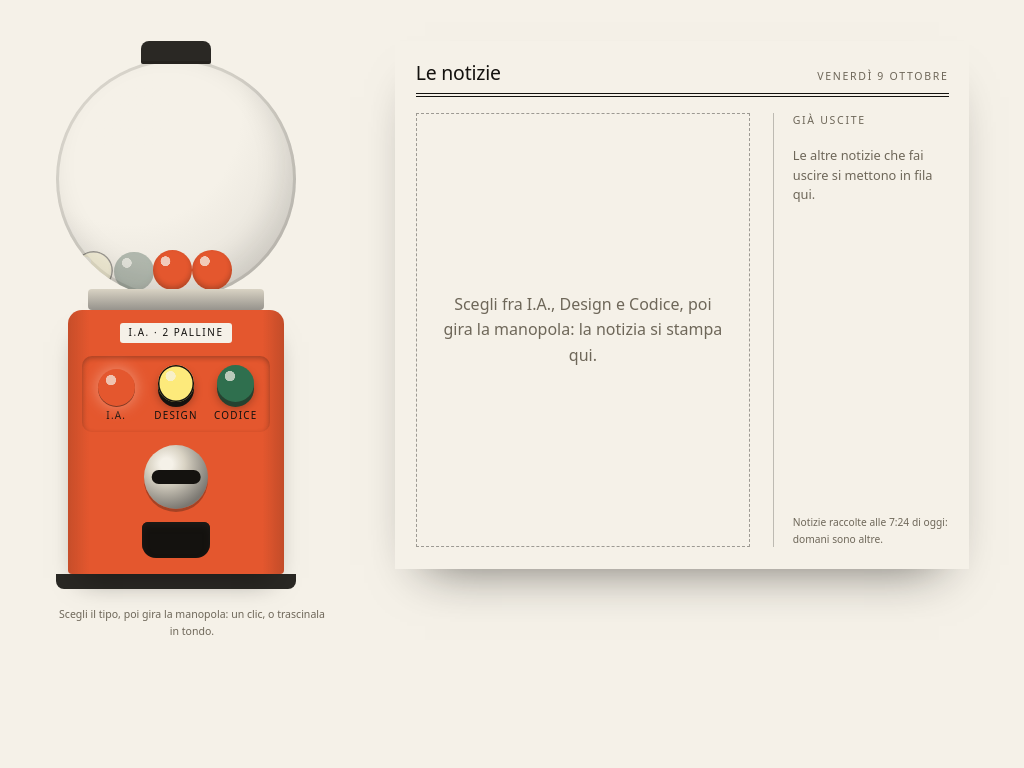
Scenario: le notizie: il giro › un tocco al centro della manopola gira, anche se il dito trema di due pixel
(page scrolled)
Click the button named "Gira la manopola: esce una notizia" at (176, 477), box [144, 445, 208, 509]
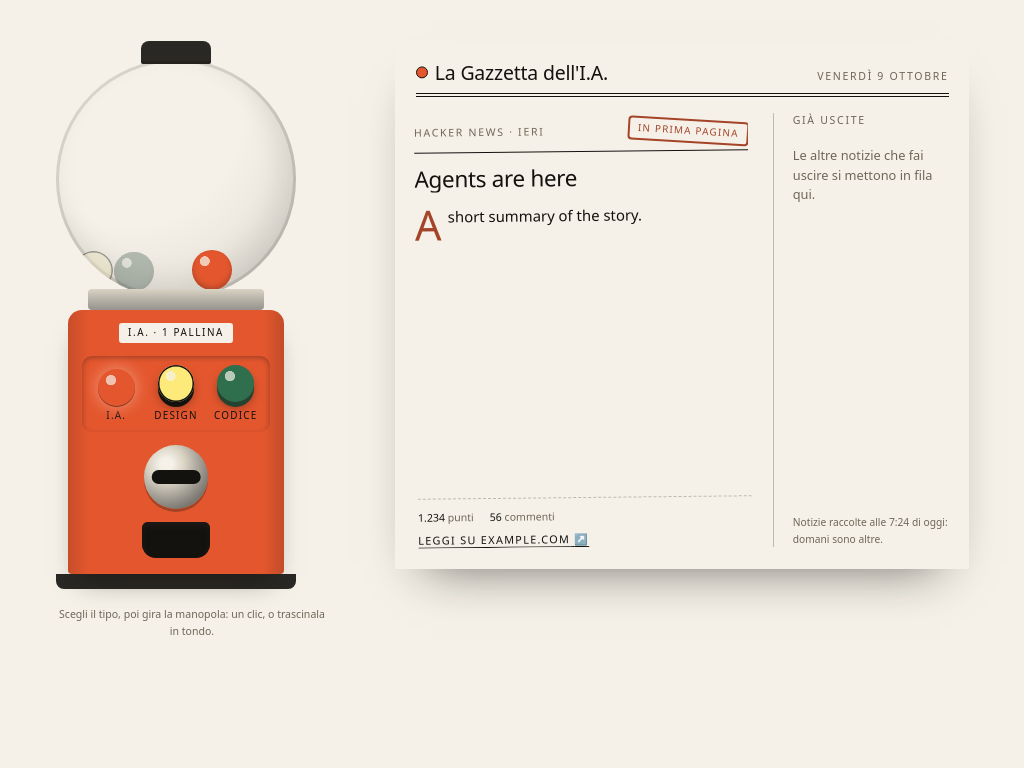
expect the element that starts with "Hacker News" shows "Agents are here": met, box [414, 162, 577, 195]
expect the text "I.A. · 1 pallina" is shown: met, box [119, 323, 233, 343]
